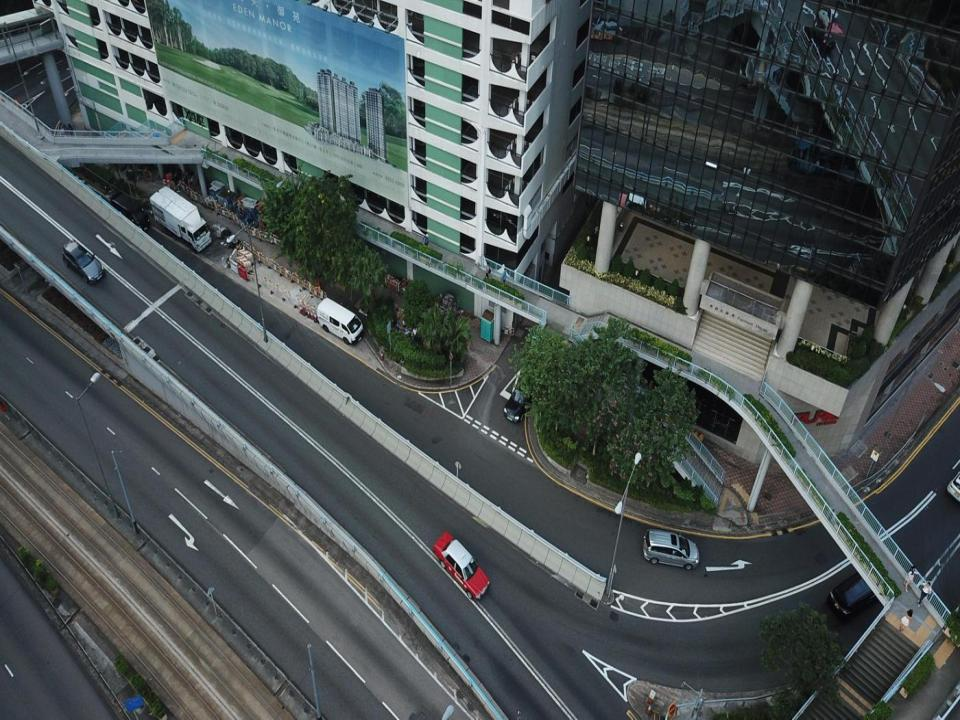car: (829, 555, 891, 621), (434, 530, 489, 602), (63, 240, 104, 284), (502, 366, 532, 420), (486, 206, 517, 234)
truck: (149, 188, 212, 252)
van: (643, 528, 699, 570), (316, 298, 362, 346), (110, 193, 150, 234)
